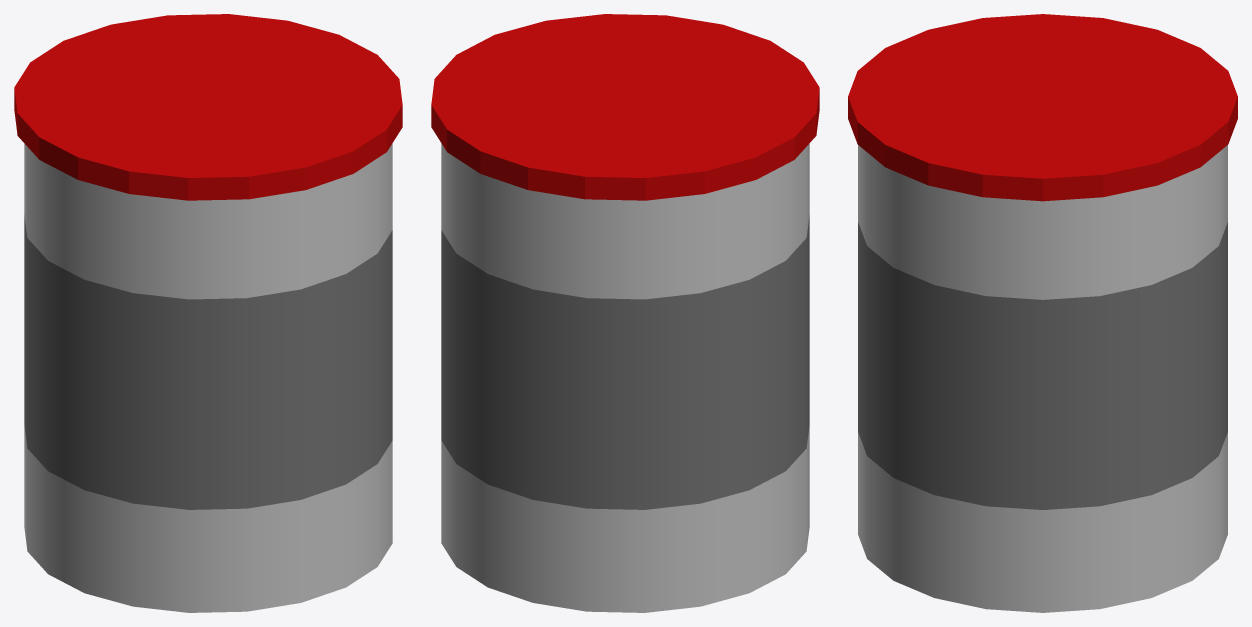
Rendered from jar.fbx.
The picture shows the model from 3 angles, left to right: view 1: azimuth 30°, elevation 25°; view 2: azimuth 150°, elevation 25°; view 3: azimuth 270°, elevation 25°; orthographic projection.
Parts seen in each view (by area): view 1: jar; view 2: jar; view 3: jar.
Part boxes in pixels (x1,y1,x2,y2): jar: [14, 14, 402, 612]; jar: [431, 14, 819, 612]; jar: [848, 14, 1237, 612].
Size of the model in its own units: 31.46 by 39.04 by 31.46.
